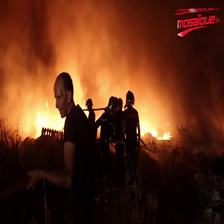fire: (5, 79, 48, 139), (10, 109, 61, 139), (139, 119, 178, 146)
